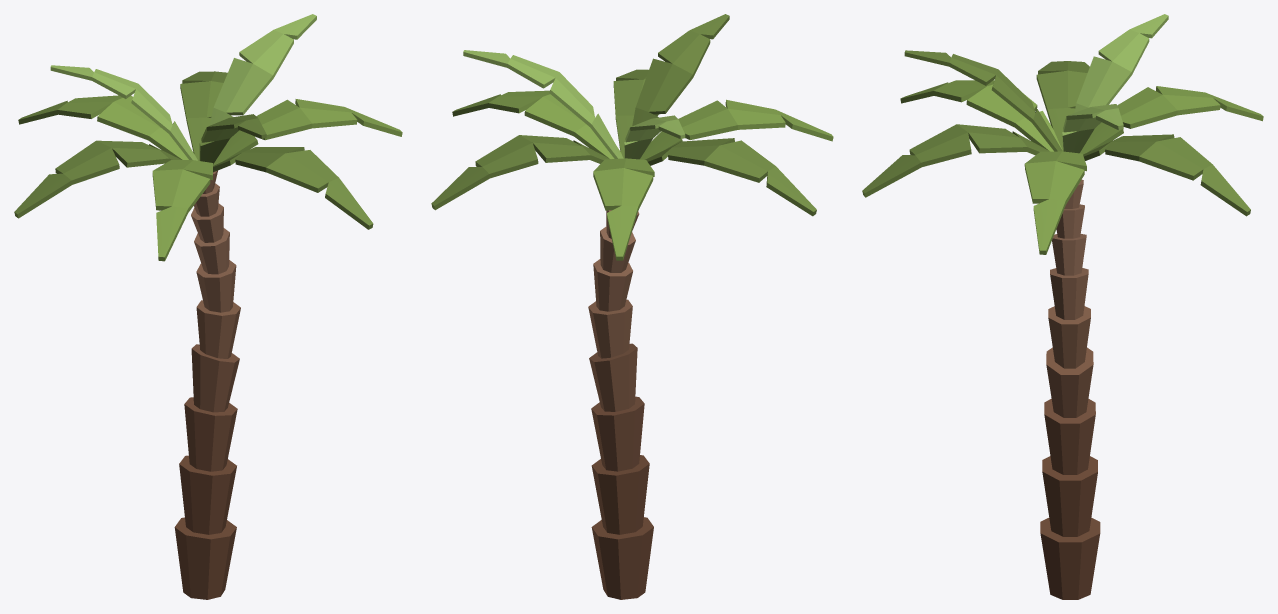
The model's file is palm_3.fbx.
The picture shows the model from 3 angles, left to right: view 1: azimuth 30°, elevation 25°; view 2: azimuth 150°, elevation 25°; view 3: azimuth 270°, elevation 25°; orthographic projection.
Parts seen in each view (by area): view 1: palm_3; view 2: palm_3; view 3: palm_3.
Part boxes in pixels (box(x1,y1,x2,y2)): palm_3: box(14, 14, 402, 599); palm_3: box(431, 14, 833, 599); palm_3: box(862, 14, 1263, 599).
Bounding box in the file's own units: 487 × 654 × 446.
